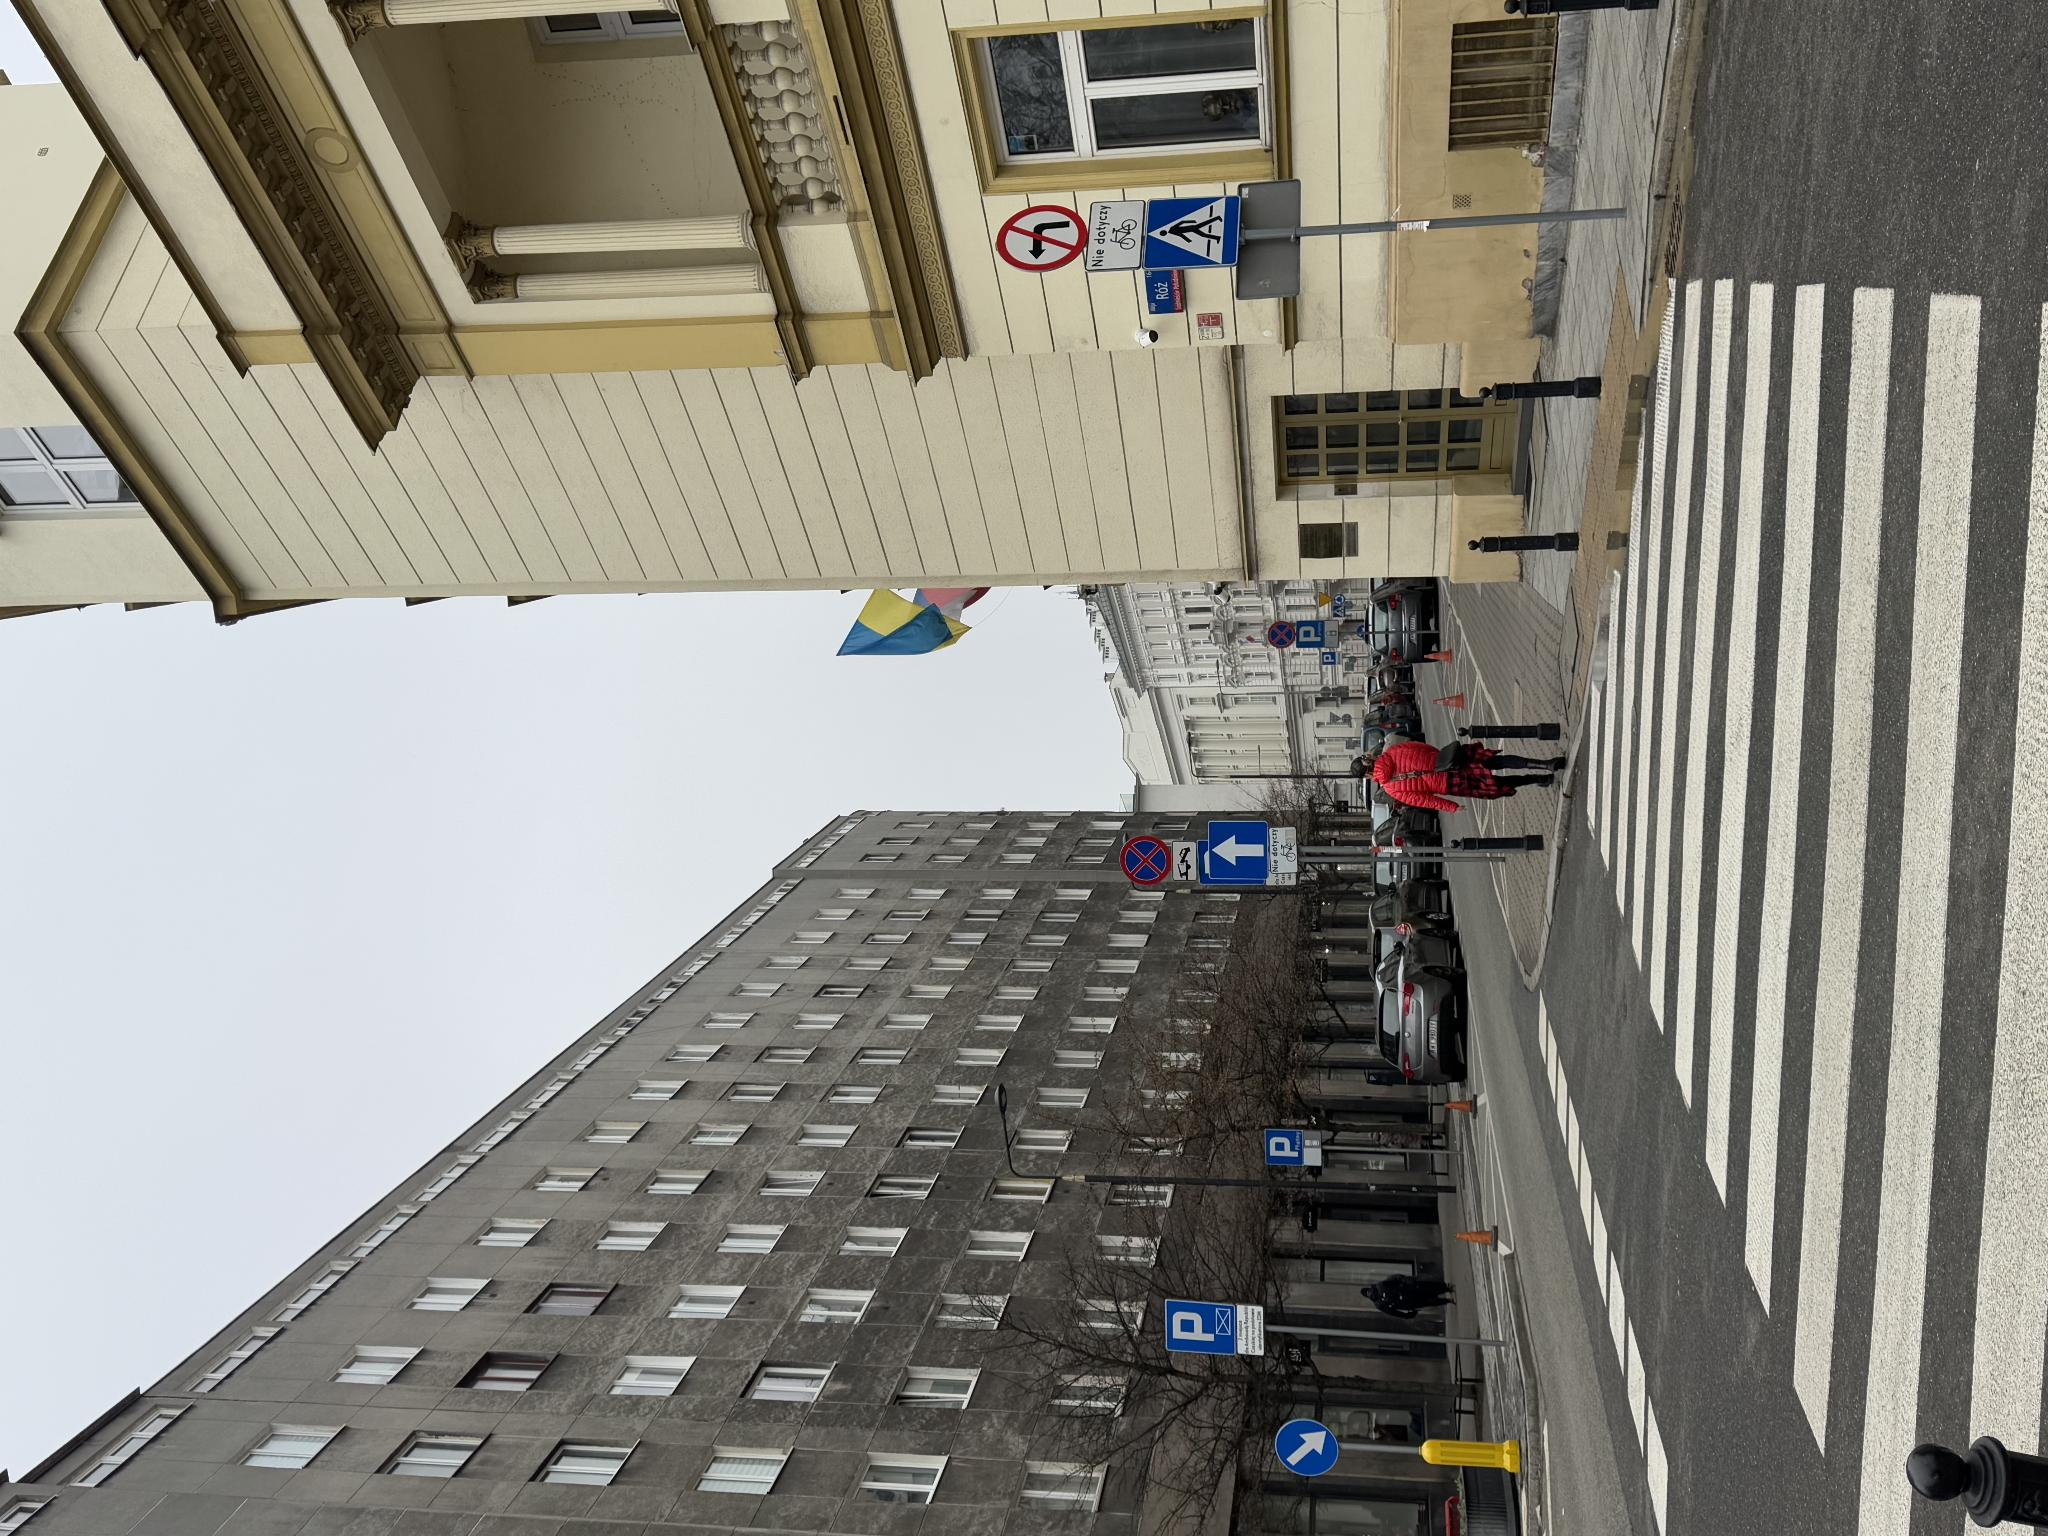information: (1266, 1142, 1342, 1242), (182, 1164, 236, 1236), (656, 1208, 716, 1270), (369, 1264, 409, 1304), (888, 1296, 916, 1324), (872, 1322, 884, 1336), (919, 1333, 931, 1345)
mandatory: (58, 1274, 120, 1340), (932, 1334, 942, 1346)
other: (1264, 1086, 1336, 1144), (180, 1236, 232, 1264), (662, 1269, 710, 1297), (654, 1172, 696, 1196), (371, 1304, 407, 1322), (888, 1325, 916, 1339), (871, 1336, 885, 1342)
prohibitory: (1262, 994, 1332, 1088), (649, 1118, 701, 1172), (887, 1267, 915, 1295)
warning: (929, 1318, 945, 1334)
